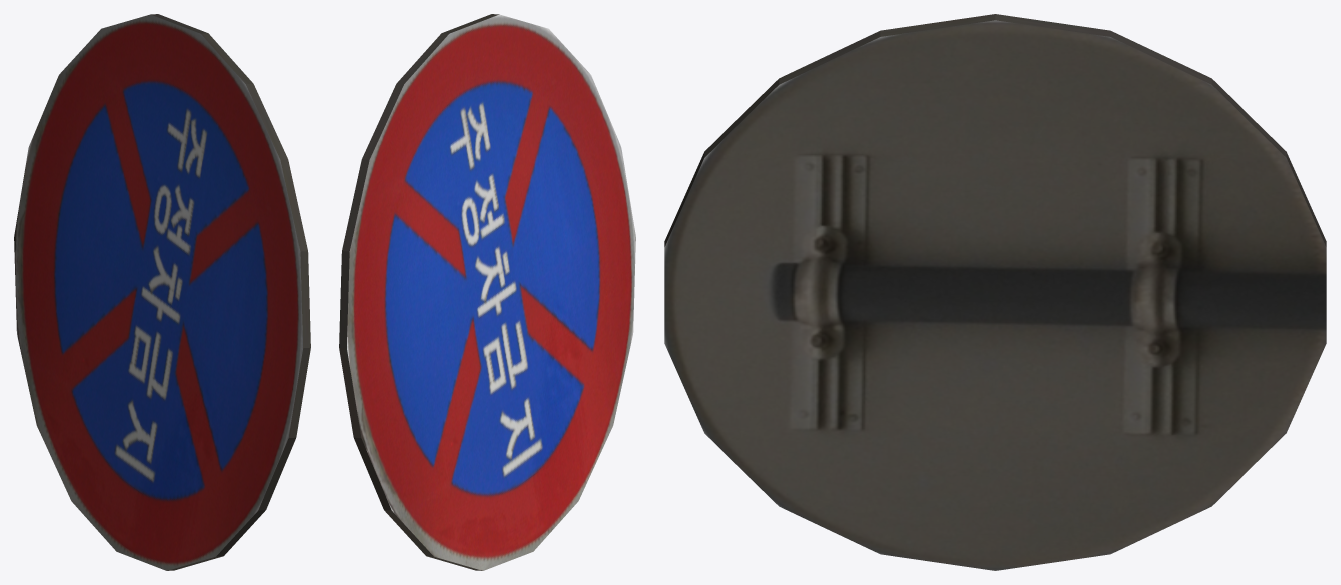
Rendered from RTA0201220727_0040L_02_normalization.obj.
3 views of the same model, side by side, from view 1: azimuth 30°, elevation 25°; view 2: azimuth 150°, elevation 25°; view 3: azimuth 270°, elevation 25° (orthographic). The views are drawn at different scales.
Visible parts, largest first — view 1: RTA0201220727_0040S_02; view 2: RTA0201220727_0040S_02; view 3: RTA0201220727_0040S_02.
Part boxes in pixels (left/top/right/bottom): RTA0201220727_0040S_02: left=14, top=14, right=310, bottom=570; RTA0201220727_0040S_02: left=339, top=14, right=635, bottom=570; RTA0201220727_0040S_02: left=664, top=14, right=1326, bottom=570.
Size of the model in its own units: 0.1352 by 0.7016 by 0.6997.
1 material, 1 textured.
